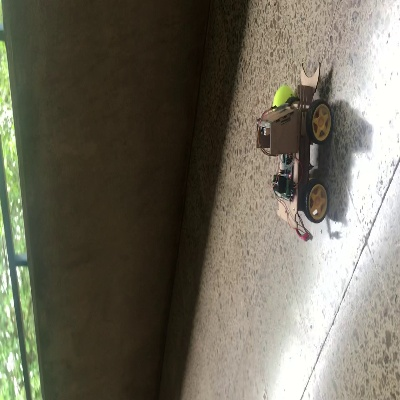Ball: (271, 85, 292, 105)
Robot: (255, 62, 331, 232)
